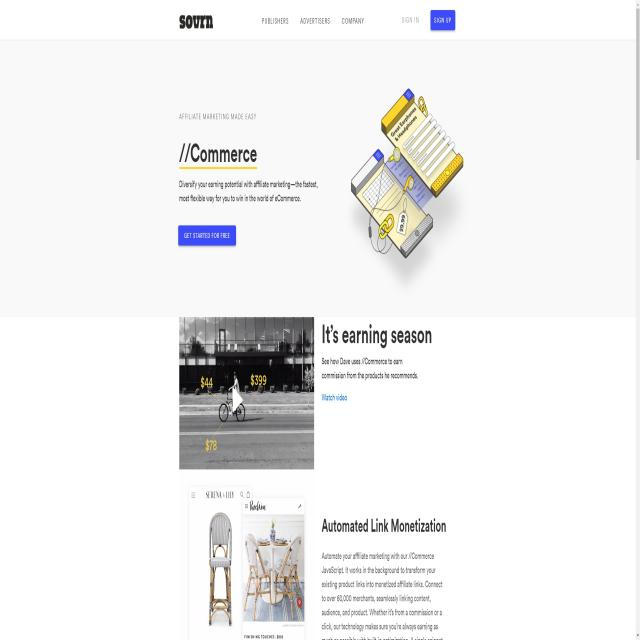menu-bar: (394, 4, 460, 40)
tab-bar: (248, 2, 368, 36)
